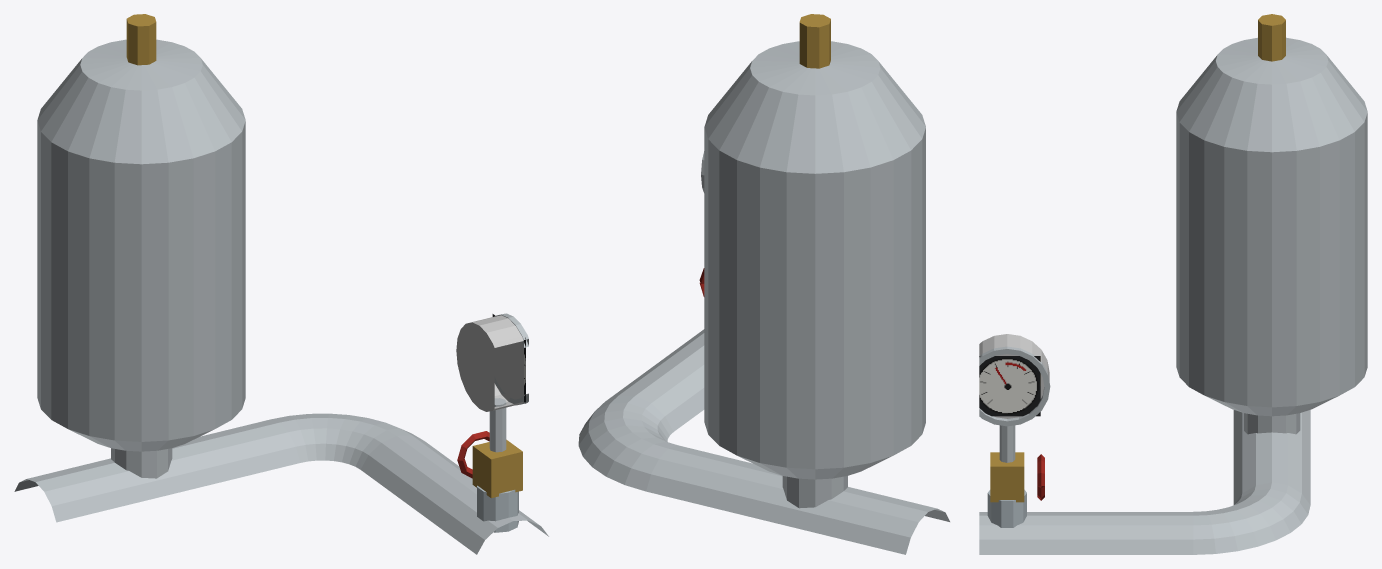
File: cell_11.obj
3 renders of one model, left to right at view 1: azimuth 30°, elevation 25°; view 2: azimuth 150°, elevation 25°; view 3: azimuth 270°, elevation 25°, orthographic. The views are drawn at different scales.
Size of the model in its own units: 0.6684 by 0.83 by 0.69.
